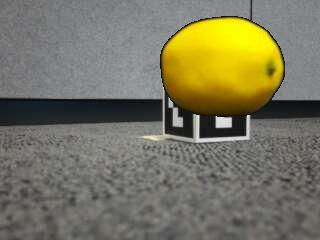lemon: (162, 17, 284, 116)
